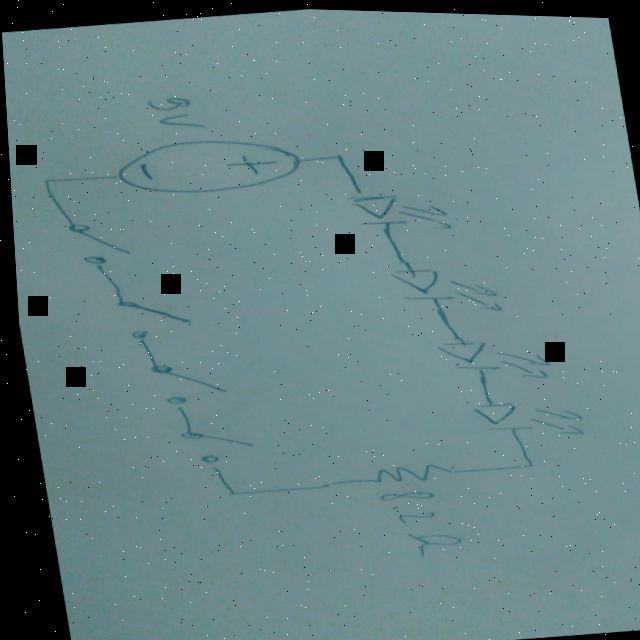diode: (417, 319, 556, 389), (377, 253, 503, 321), (459, 388, 585, 447), (340, 181, 457, 239)
junction: (501, 453, 538, 469), (209, 484, 241, 502), (319, 146, 346, 164), (31, 174, 58, 189)
resistor: (353, 454, 460, 488)
source: (98, 125, 307, 203)
switch: (104, 290, 194, 345), (140, 355, 224, 409), (59, 214, 136, 270), (169, 423, 255, 471)
text: (368, 484, 455, 562), (141, 90, 205, 132)
